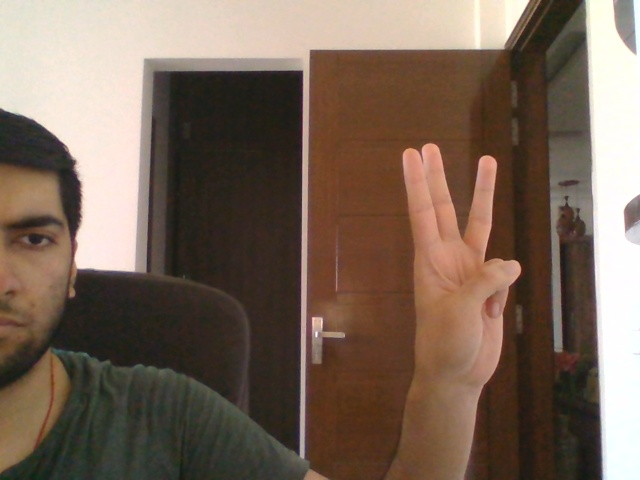LetterW: (400, 139, 524, 391)
